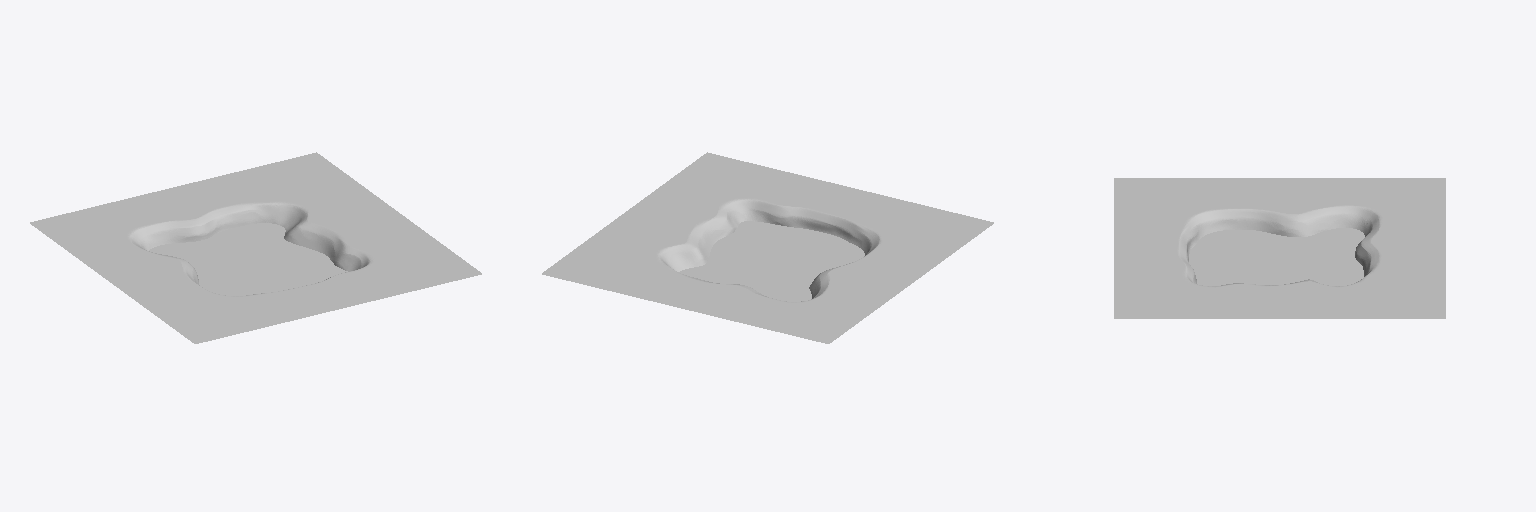
Rendered from LowPolyPaintedLake3 (2).obj.
3 views of the same model, side by side, from view 1: azimuth 30°, elevation 25°; view 2: azimuth 150°, elevation 25°; view 3: azimuth 270°, elevation 25° (orthographic).
Parts seen in each view (by area): view 1: Plane; view 2: Plane; view 3: Plane.
Part boxes in pixels (left/top/right/bottom): Plane: left=30, top=152, right=481, bottom=343; Plane: left=542, top=152, right=993, bottom=343; Plane: left=1114, top=178, right=1445, bottom=318.
Size of the model in its own units: 100 by 5 by 100.